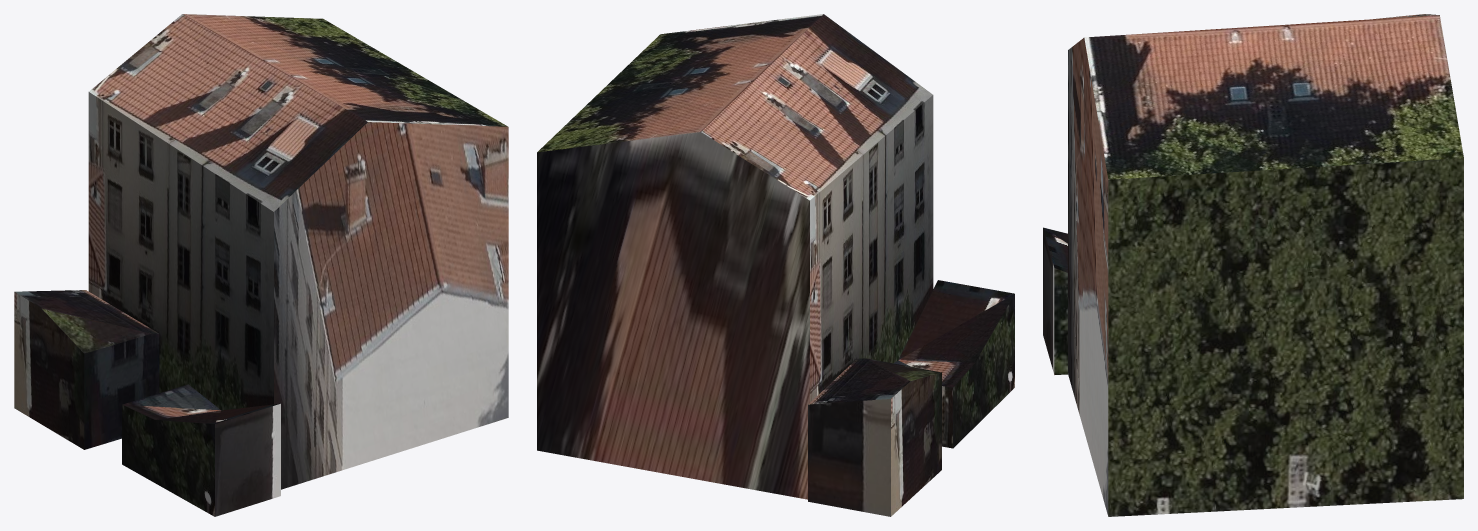
The picture shows the model from 3 angles, left to right: view 1: azimuth 30°, elevation 25°; view 2: azimuth 150°, elevation 25°; view 3: azimuth 270°, elevation 25°; orthographic projection. The views are drawn at different scales.
Parts seen in each view (by area): view 1: Z_UP; view 2: Z_UP; view 3: Z_UP.
Part boxes in pixels (x1=…): Z_UP: x1=14, y1=14, x2=508, y2=516; Z_UP: x1=537, y1=14, x2=1014, y2=516; Z_UP: x1=1043, y1=14, x2=1463, y2=516.
Size of the model in its own units: 19.88 by 18.1 by 17.34.
2 materials, 1 textured.
